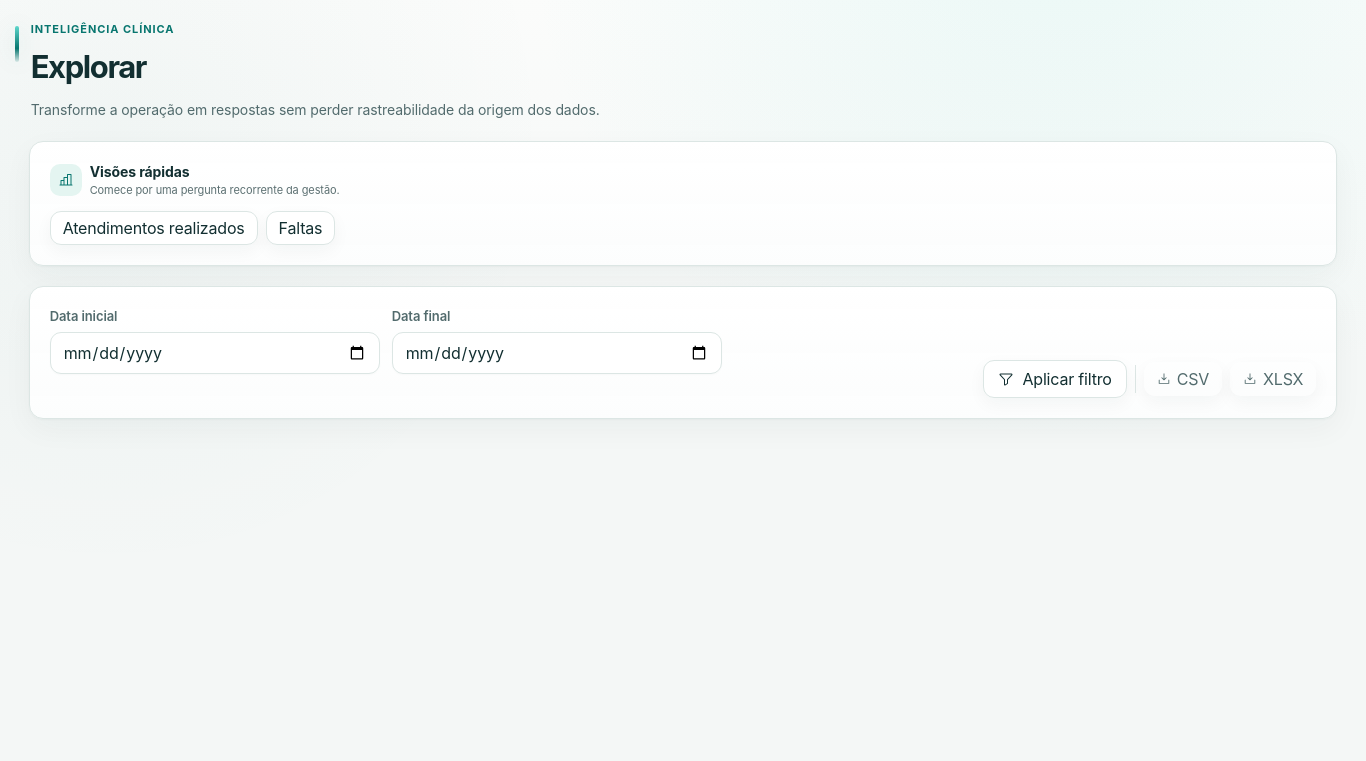
Test: tela Explorar › exibe tabela de resultados após consulta
Click the button "Atendimentos realizados".
click(154, 228)  # box x1=50 y1=211 x2=258 y2=245
(page scrolled)
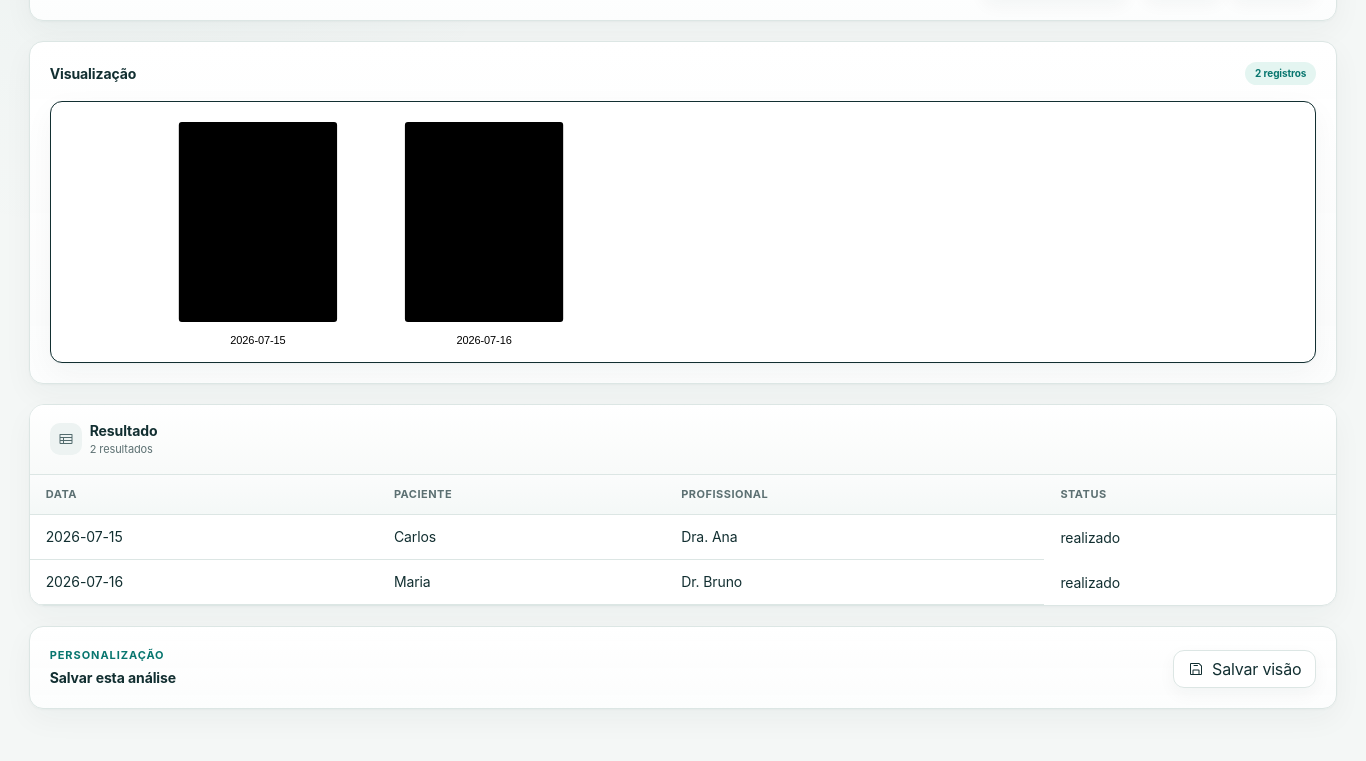
Check: the table is shown, box x1=30 y1=475 x2=1336 y2=605
Check: the text "Carlos" is shown, box x1=378 y1=515 x2=665 y2=560
Check: the text "Maria" is shown, box x1=378 y1=560 x2=665 y2=605
